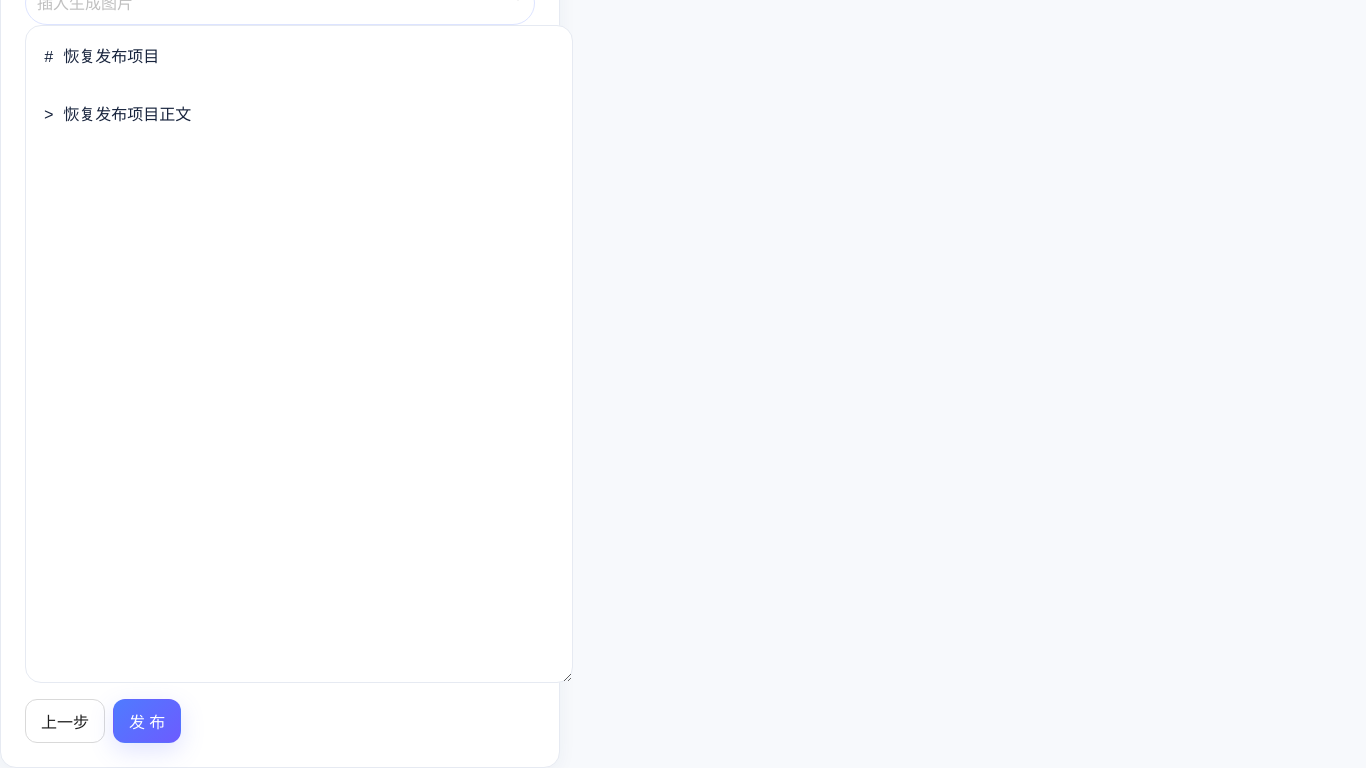
Creator publishing › loads an existing awaiting-confirmation publish job without second-scan resume
(page scrolled)
Click the button "发 布": click(147, 721) [113,699,181,743]
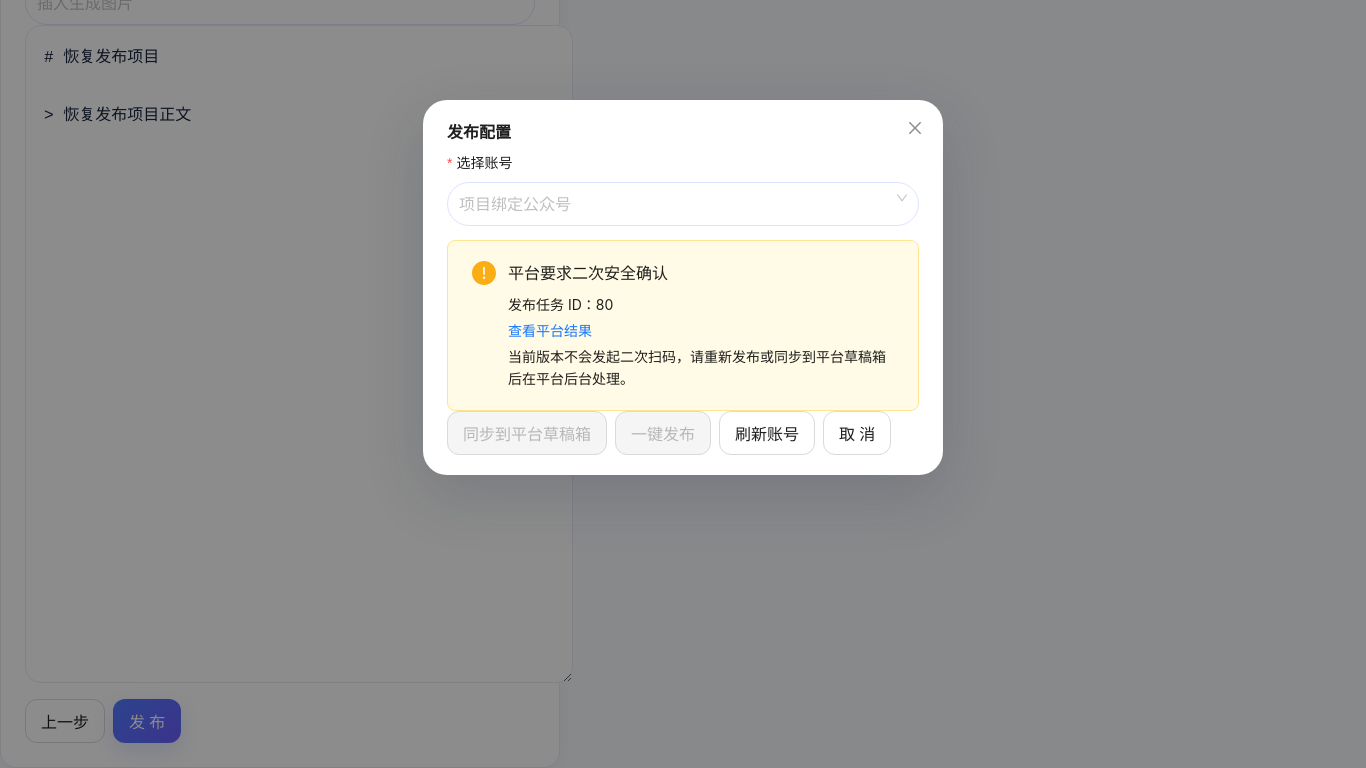
Expected: the text "平台要求二次安全确认" is shown, [508,263,668,283]
Expected: the text "项目绑定公众号" is shown, [459,194,571,214]
Expected: the text "当前版本不会发起二次扫码" is shown, [508,348,886,387]
